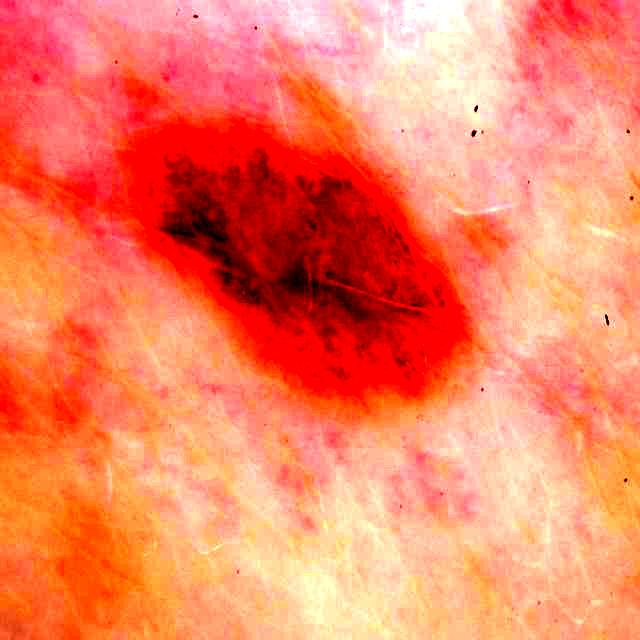NV: (139, 127, 460, 393)
